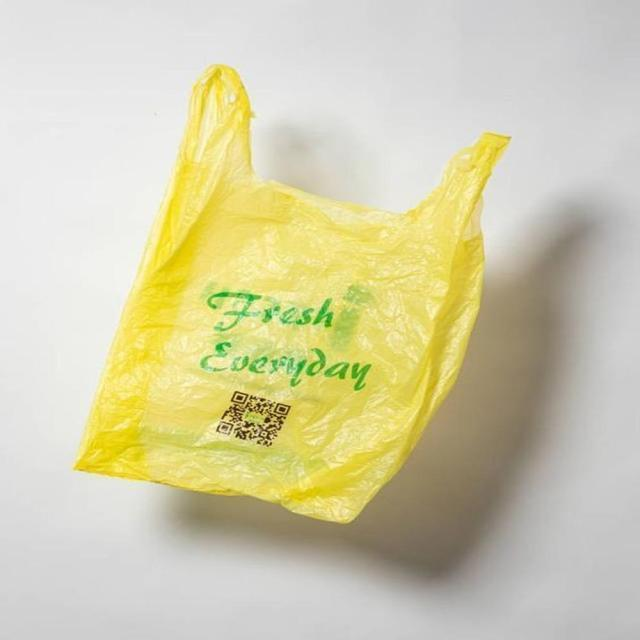Plastic_Bag: (102, 69, 470, 526)
